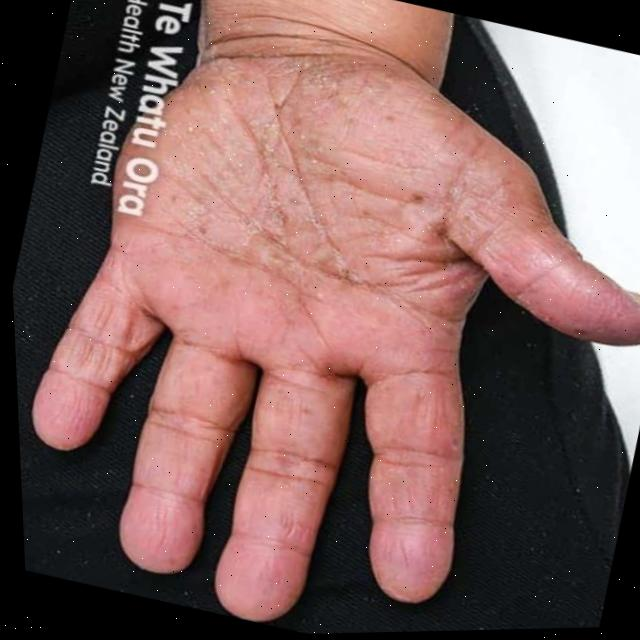Eczema: (4, 72, 632, 627)
